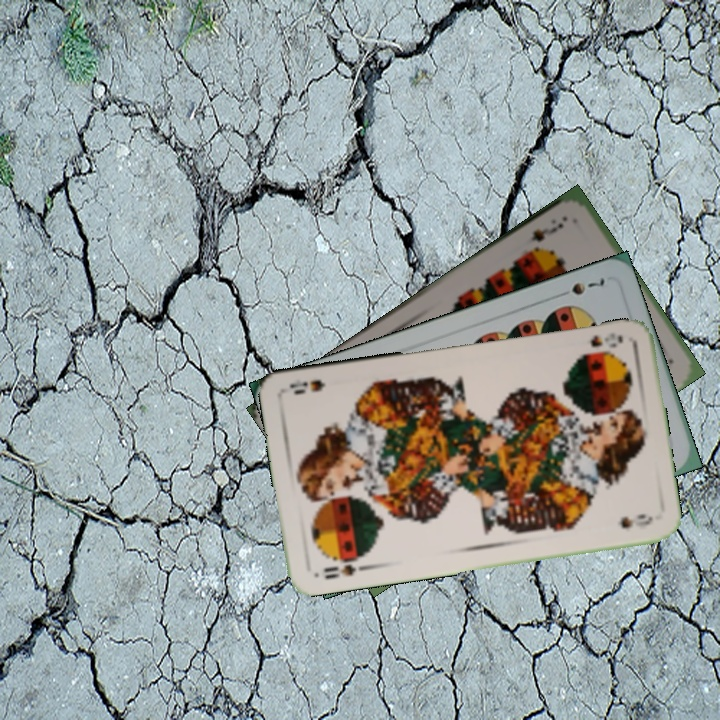S7: (567, 274, 608, 298)
S9: (527, 218, 566, 245)
SO: (319, 552, 368, 582), (586, 328, 626, 350)
